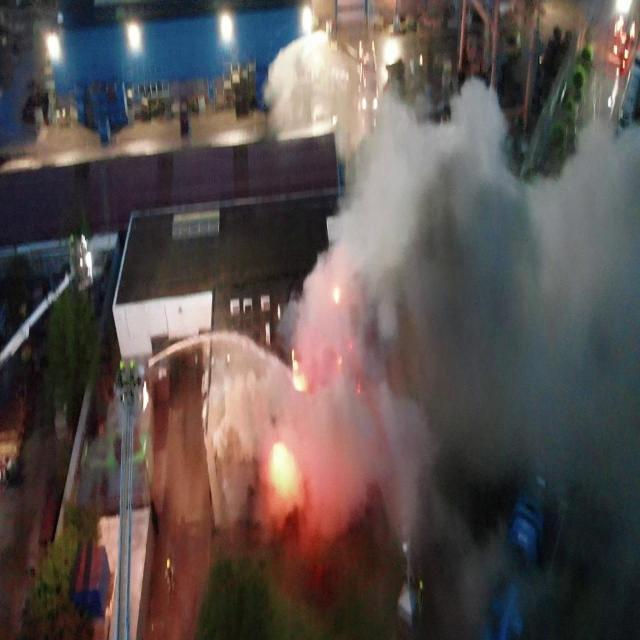Fire: (272, 442, 290, 478), (294, 374, 306, 392), (291, 349, 298, 371), (332, 288, 340, 304), (336, 356, 342, 364)
Smoke: (205, 73, 640, 550)
